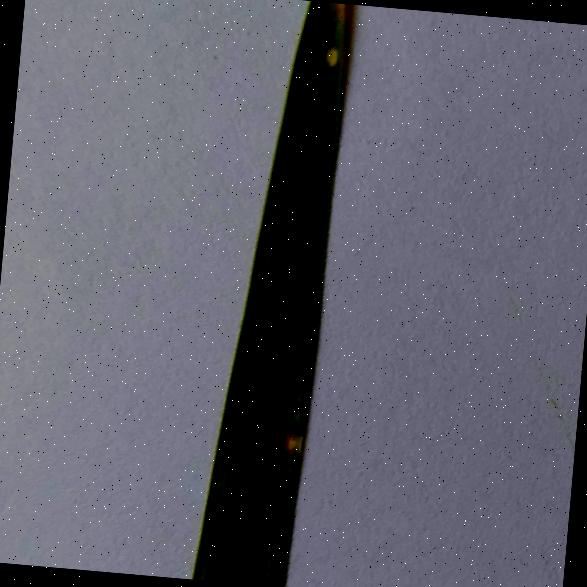Leaf_smut: (261, 412, 310, 460), (316, 38, 353, 75)
